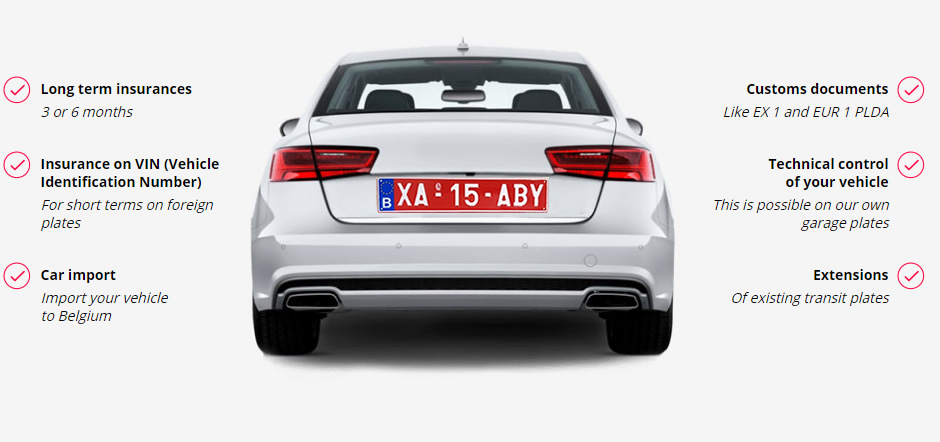license plate: (372, 175, 551, 214)
